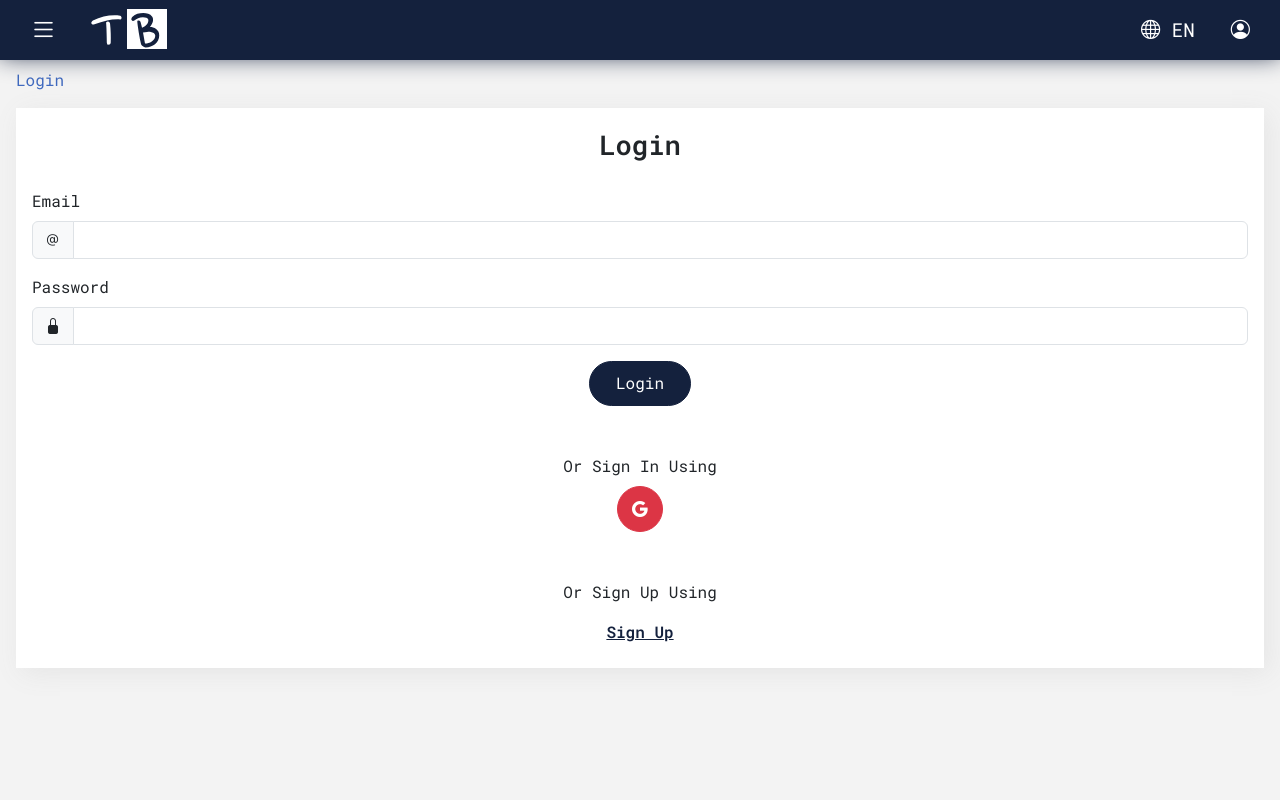
Test case: LoginView › submit invalid registration form
The width and height of the screenshot is (1280, 800).
In the field with id "login-input-email": point(660, 240) [73,221,1248,259], type "mmm@test.fr"
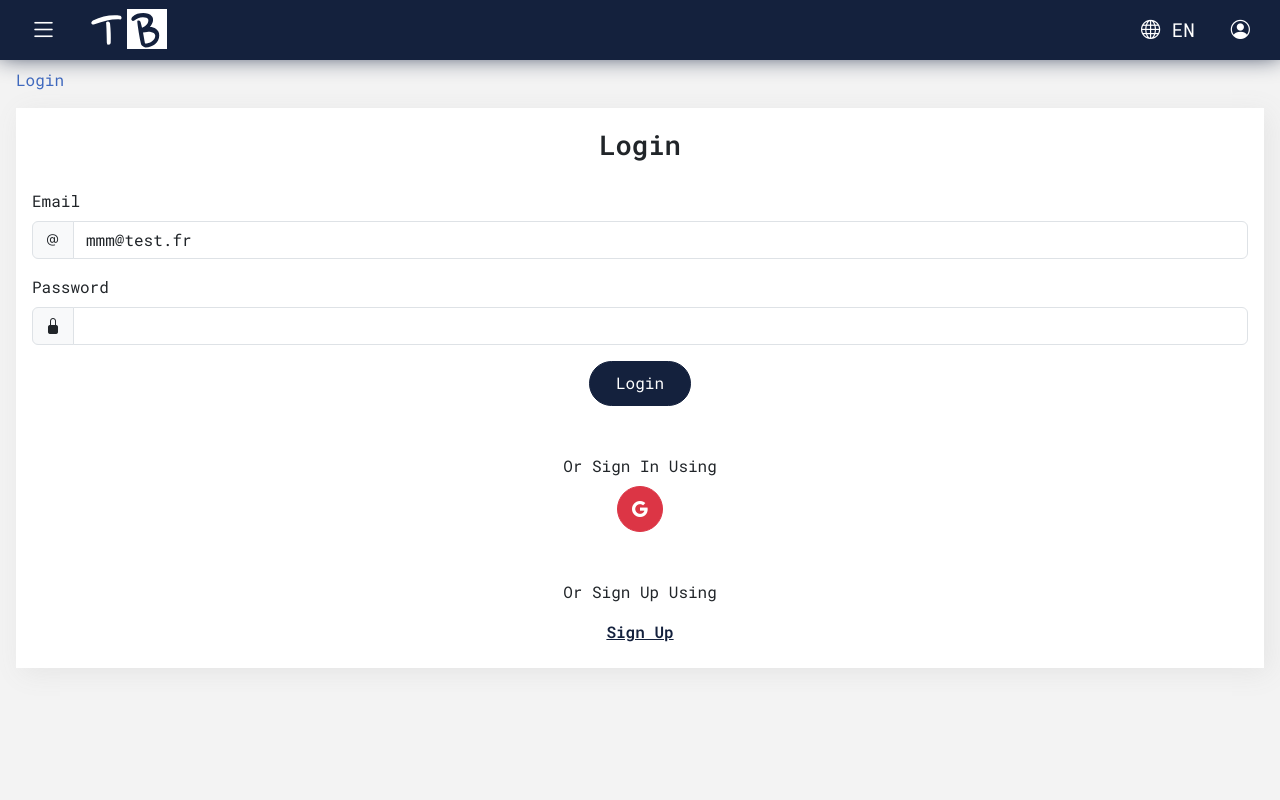
Click the button "Login": point(640, 383) [589,361,691,406]
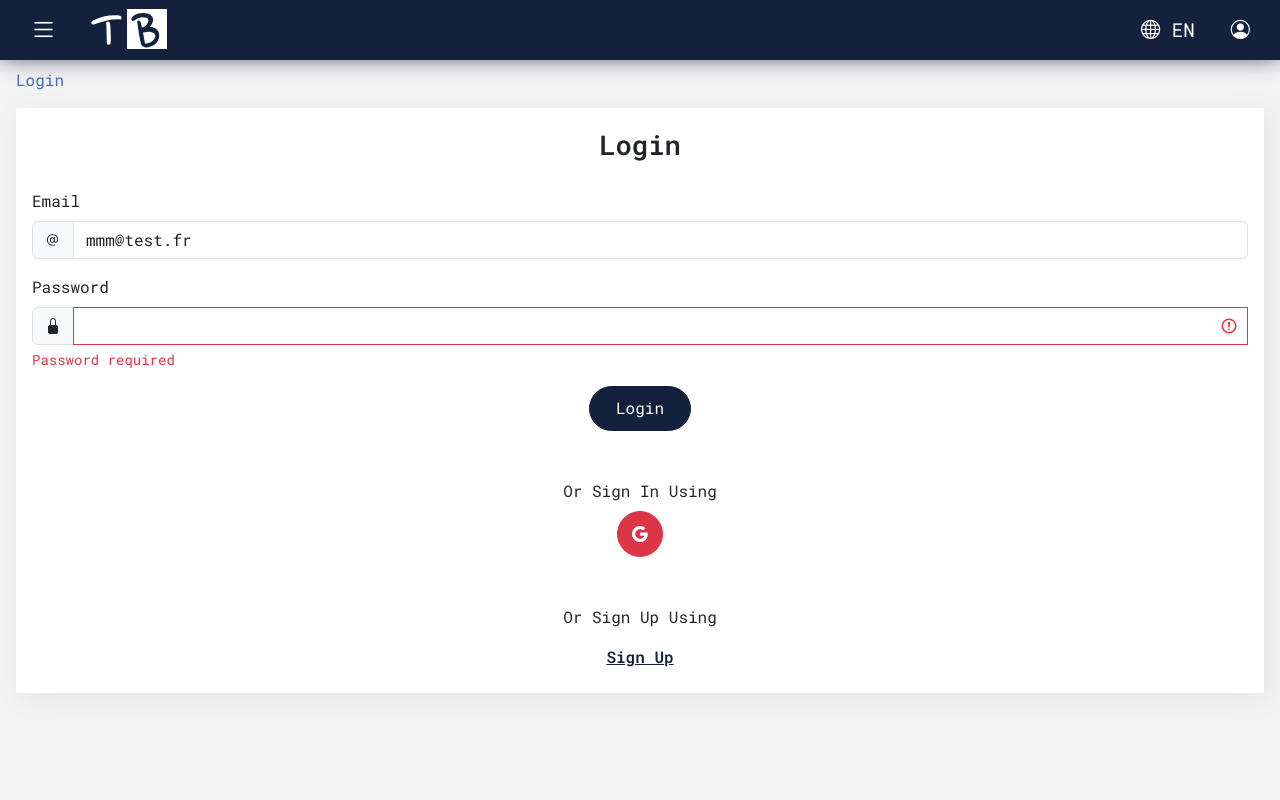
expect the text with class "invalid-feedback" reads "Password required": met, box [32,350,175,369]
